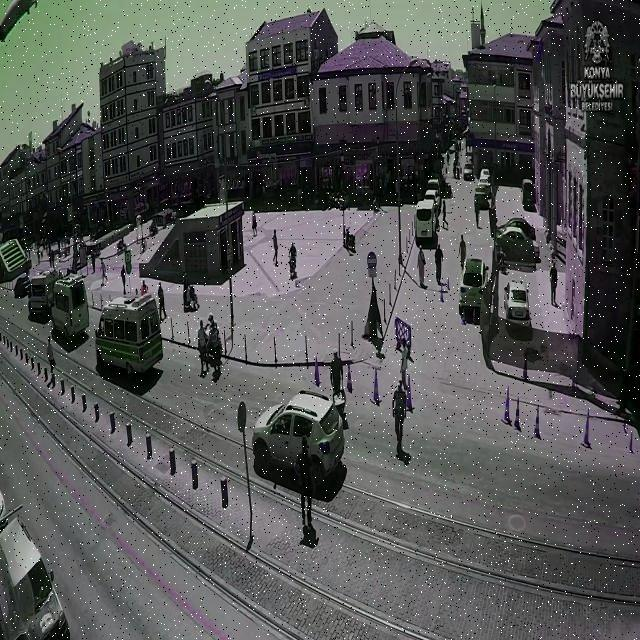Car: (252, 389, 344, 476), (457, 257, 492, 314), (494, 227, 540, 260), (504, 280, 531, 330), (497, 219, 536, 237), (13, 275, 31, 299), (473, 186, 489, 207), (424, 190, 442, 208), (463, 163, 474, 180)
Van: (94, 297, 159, 375), (47, 275, 88, 336), (28, 274, 57, 318), (416, 200, 436, 242)
